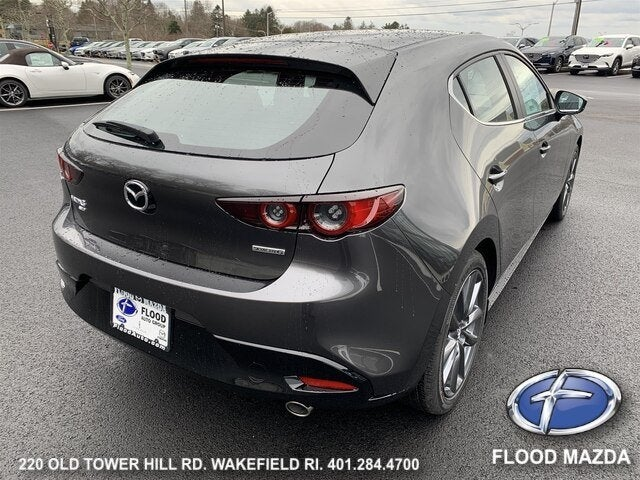Mazda3 Hatchback: (48, 25, 590, 432)
